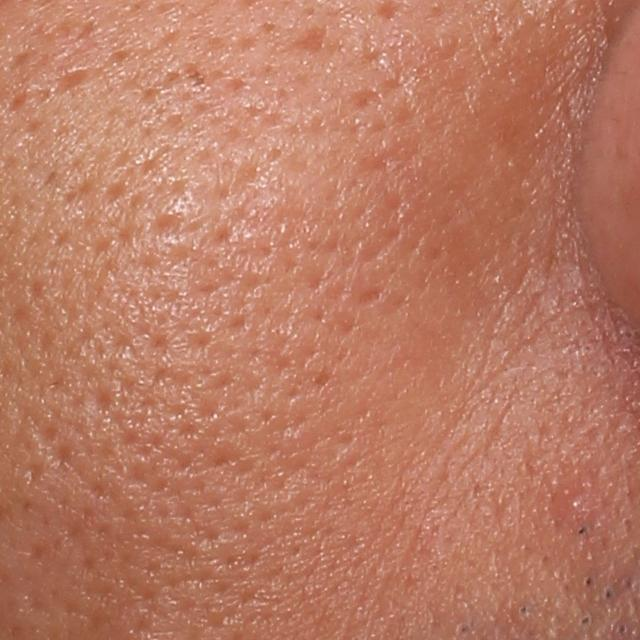atrophic_scar: (45, 63, 98, 104), (284, 25, 328, 53)
